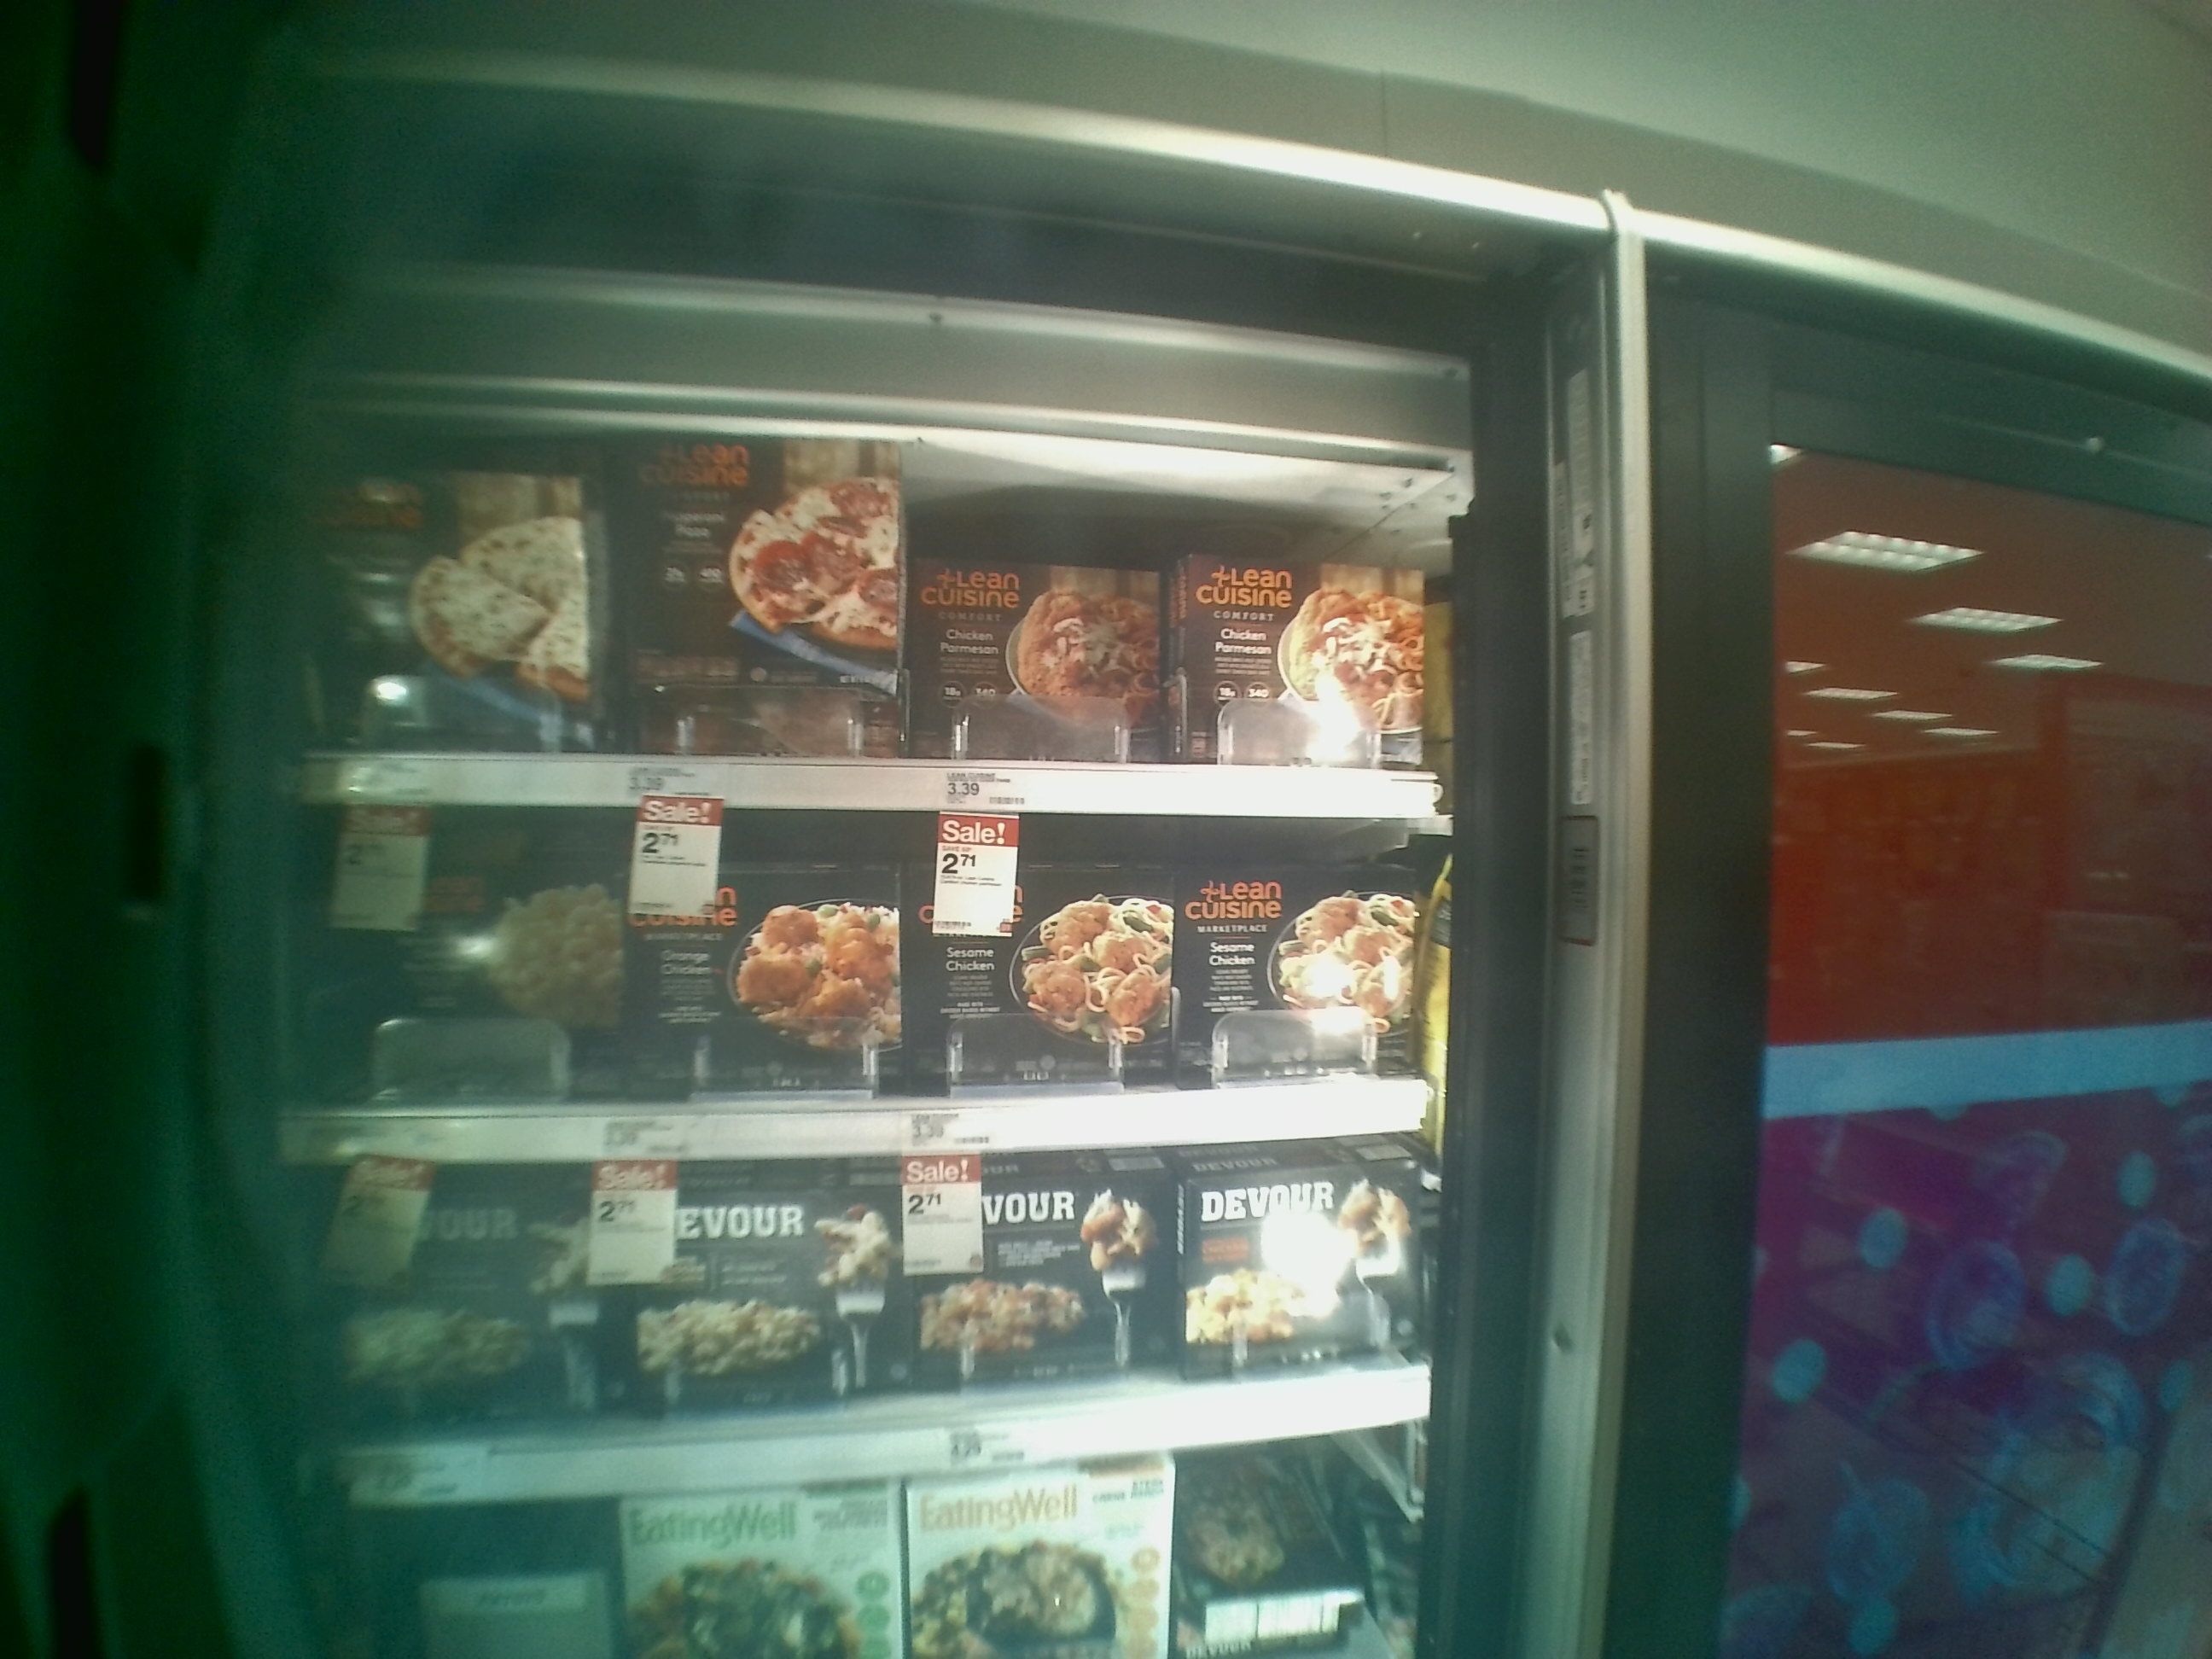shelf: (275, 401, 1447, 817), (301, 1121, 1446, 1502), (286, 802, 1456, 1171)
